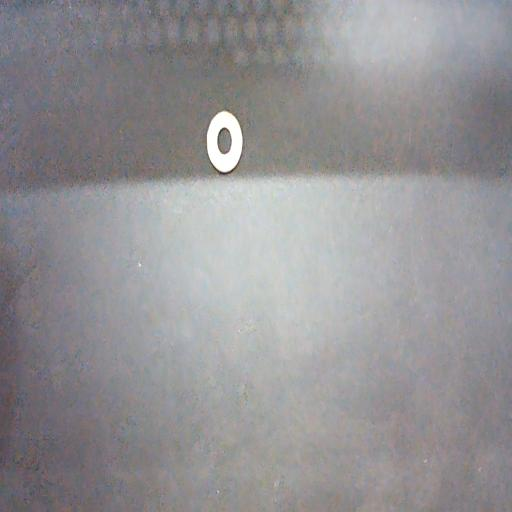washer: (205, 107, 244, 175)
